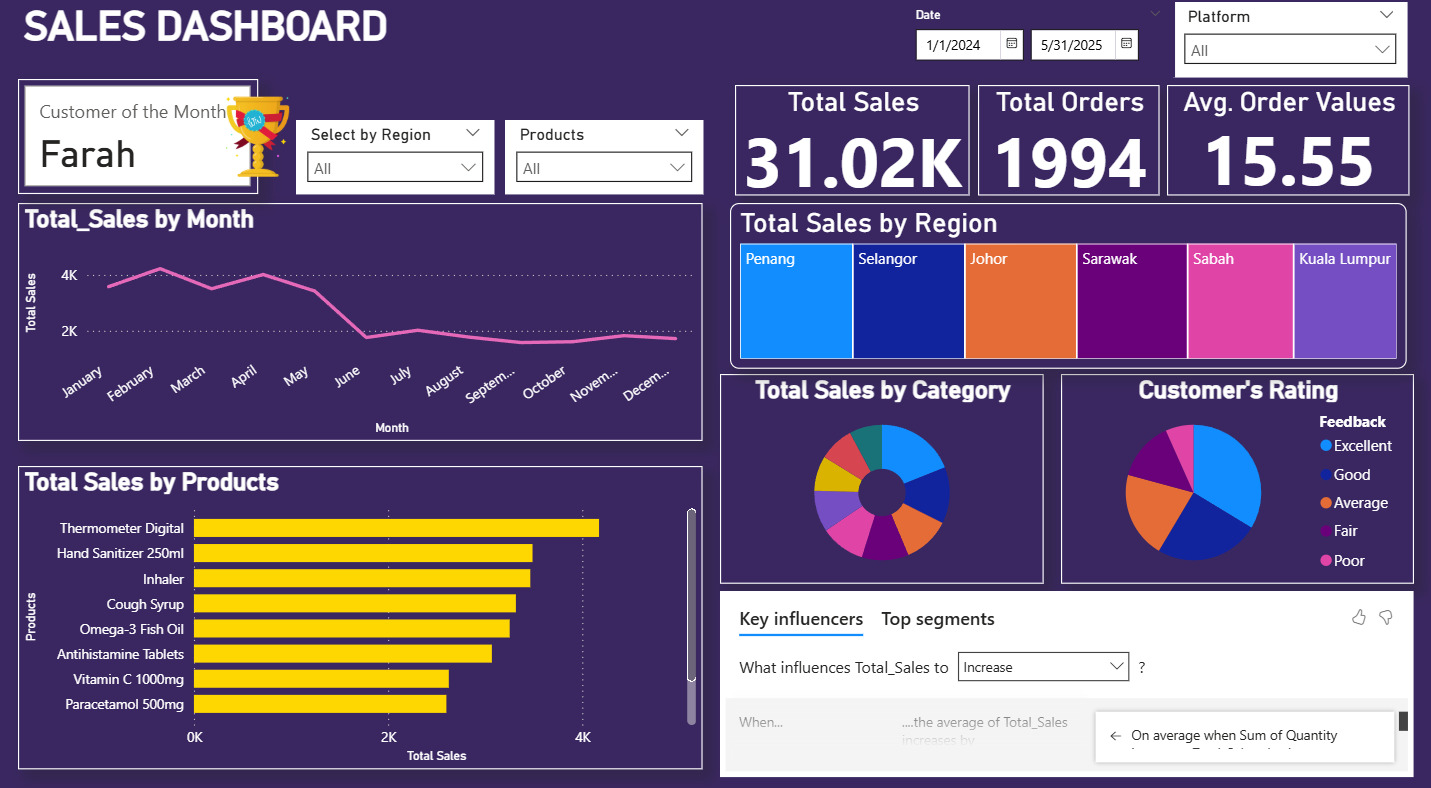

Layout of this report page (visuals, bound fields, positions):
{"tool":"powerbi","page":{"name":"Sales_Dashboard","canvas":[1280,720],"ordinal":0},"visuals":[{"type":"slicer","fields":{"Values":["Combined_Platforms.Platform"]},"box":[1051.6,15.1,208.4,67.4],"z":0},{"type":"card","title":"Total Sales","fields":{"Values":["Combined_Platforms.Total_Sales"]},"box":[663.3,88.7,208.4,97.5],"z":1000},{"type":"barChart","title":"Total Sales by Products","fields":{"Category":["Combined_Platforms.Product_Name"],"Y":["Combined_Platforms.Total_Sales"]},"box":[27.5,426.5,607.4,268.7],"z":2000},{"type":"card","title":"Total Orders","fields":{"Values":["Combined_Platforms.Total_Orders"]},"box":[878.7,88.7,161.4,97.5],"z":3000},{"type":"card","title":"Avg. Order Values","fields":{"Values":["Combined_Platforms.Avg Order Value"]},"box":[1046.3,88.7,215.5,97.5],"z":4000},{"type":"slicer","fields":{"Values":["Combined_Platforms.Date"]},"box":[810.4,15.1,243,67.4],"z":5000},{"type":"lineChart","fields":{"Category":["Combined_Platforms.Date.Variation.Date Hierarchy.Month"],"Y":["Combined_Platforms.Total_Sales"]},"box":[27.5,193.3,607.4,211],"z":6000},{"type":"donutChart","title":"Total Sales by Category","fields":{"Category":["Combined_Platforms.Category"],"Y":["Combined_Platforms.Total_Sales"]},"box":[650,344.9,287.3,186.2],"z":7000},{"type":"pieChart","title":"Customer''s Rating","fields":{"Y":["Sum(Combined_Platforms.Customer_Rating)"],"Category":["Combined_Platforms.Customer_Feedback"]},"box":[952.3,344.9,313,186.2],"z":8000},{"type":"cardVisual","fields":{"Data":["Combined_Platforms.Customer of the Month"]},"box":[27.5,83.3,212.8,102],"z":9000},{"type":"textbox","title":"SALES DASHBOARD","box":[27.5,15.1,369.8,49.7],"z":10000},{"type":"image","box":[203.9,94,72.7,80.7],"z":11000},{"type":"slicer","fields":{"Values":["Combined_Platforms.Region"]},"box":[274,119.7,175.6,65.6],"z":12000},{"type":"slicer","fields":{"Values":["Combined_Platforms.Product_Name"]},"box":[459.3,119.7,175.6,65.6],"z":13000},{"type":"treemap","title":"Total Sales by Region","fields":{"Group":["Combined_Platforms.Region"],"Values":["Combined_Platforms.Total_Sales"]},"box":[658.8,193.3,600.3,147.2],"z":14000},{"type":"keyDriversVisual","fields":{"Target":["Combined_Platforms.Total_Sales"],"ExplainBy":["Combined_Platforms.Region","Sum(Combined_Platforms.Quantity)","Combined_Platforms.Customer_Feedback","Combined_Platforms.Product_Name"]},"box":[650,537.3,615.4,164.9],"z":15000}]}

Visuals, with their boxes in screenshot pixels (x1, y1, x2, y2), scaled from the page's 1280x720 canvas onto the 1431x788 screenshot:
slicer - Combined_Platforms.Platform: box=[1176, 17, 1409, 90]
"Total Sales" card: box=[742, 97, 975, 204]
"Total Sales by Products" barChart: box=[31, 467, 710, 761]
"Total Orders" card: box=[982, 97, 1163, 204]
"Avg. Order Values" card: box=[1170, 97, 1411, 204]
slicer - Combined_Platforms.Date: box=[906, 17, 1178, 90]
lineChart - Combined_Platforms.Date.Variation.Date Hierarchy.Month x Combined_Platforms.Total_Sales: box=[31, 212, 710, 442]
"Total Sales by Category" donutChart: box=[727, 377, 1048, 581]
"Customer''s Rating" pieChart: box=[1065, 377, 1415, 581]
cardVisual - Combined_Platforms.Customer of the Month: box=[31, 91, 269, 203]
"SALES DASHBOARD" textbox: box=[31, 17, 444, 71]
image: box=[228, 103, 309, 191]
slicer - Combined_Platforms.Region: box=[306, 131, 503, 203]
slicer - Combined_Platforms.Product_Name: box=[513, 131, 710, 203]
"Total Sales by Region" treemap: box=[737, 212, 1408, 373]
keyDriversVisual - Combined_Platforms.Total_Sales x Combined_Platforms.Region: box=[727, 588, 1415, 769]
